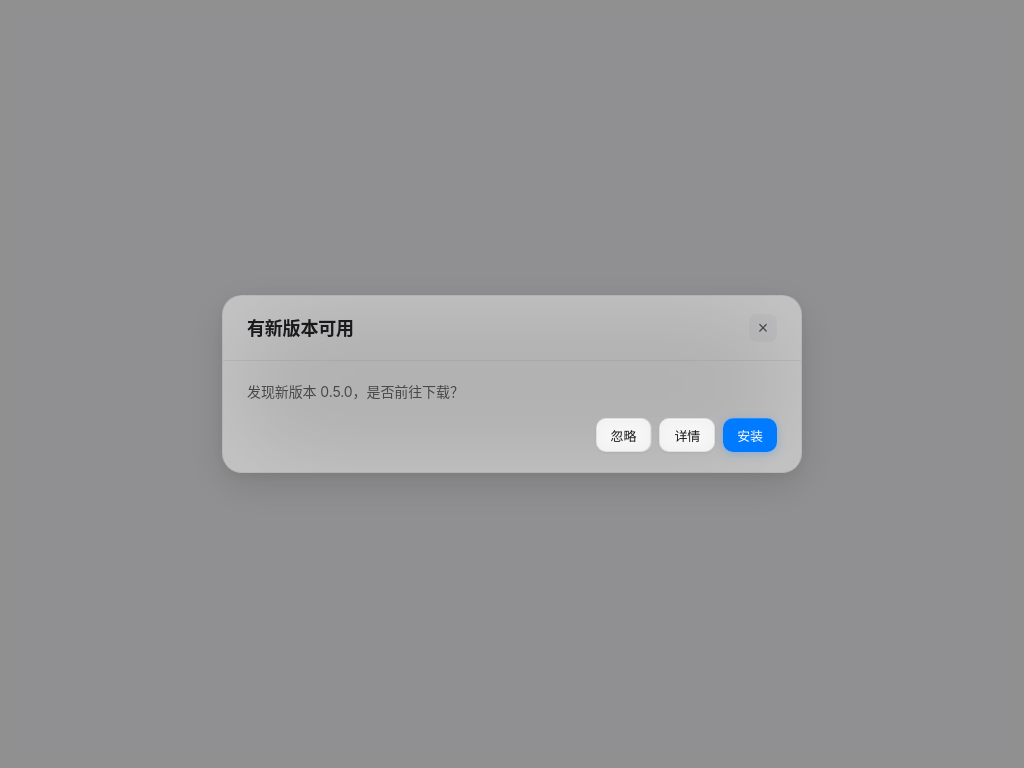
UpdateDialog › should show download complete status
Click the button "安装" at [750, 435], box top-left (723, 418), bottom-right (777, 452)
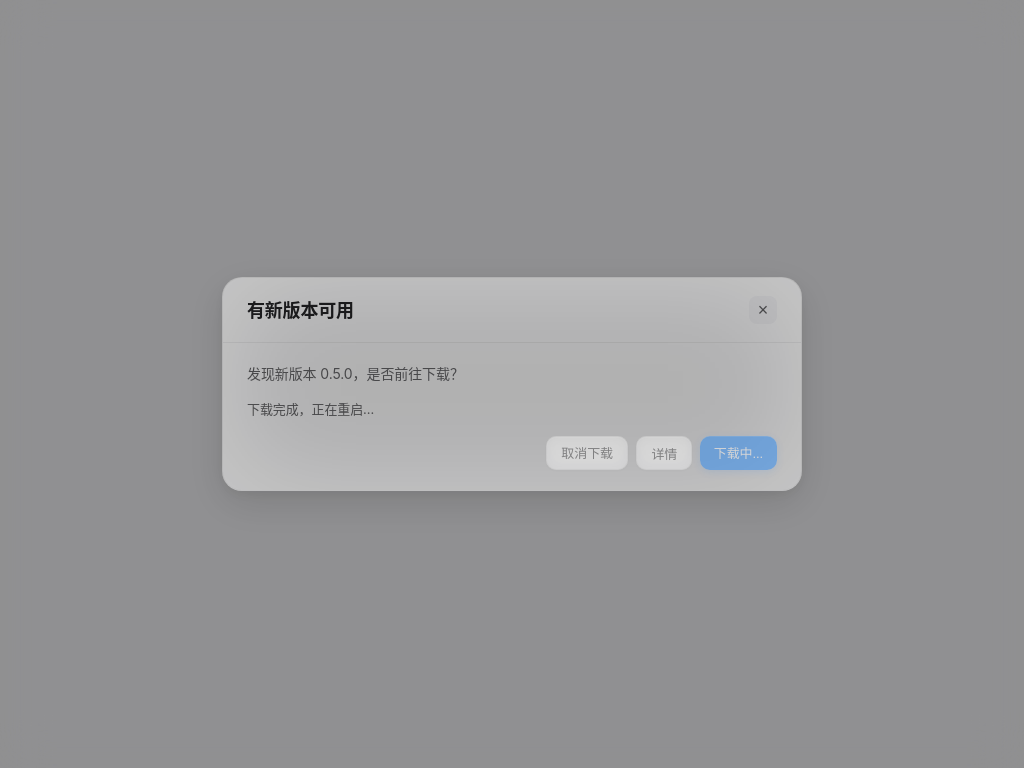
Now the text "下载完成，正在重启..." is shown, box top-left (247, 401), bottom-right (374, 417)
